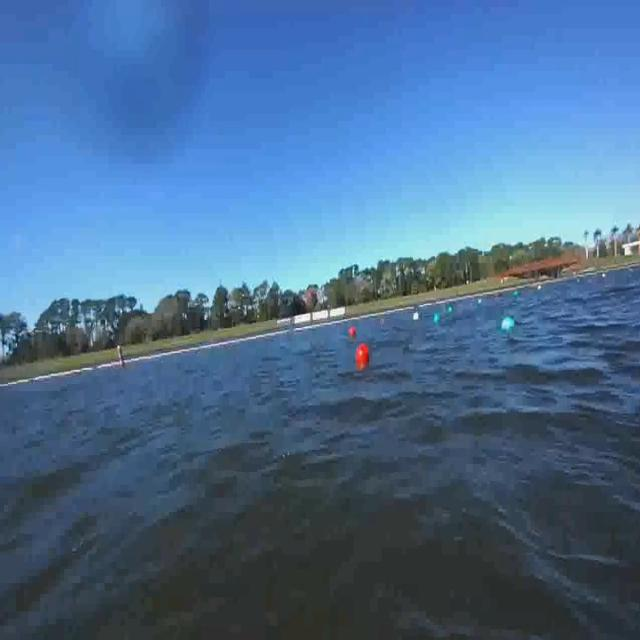green-buoy: (497, 316, 518, 336), (433, 312, 440, 324)
red-buoy: (356, 343, 369, 365), (349, 326, 358, 338)
yellow-buoy: (411, 307, 421, 323)
